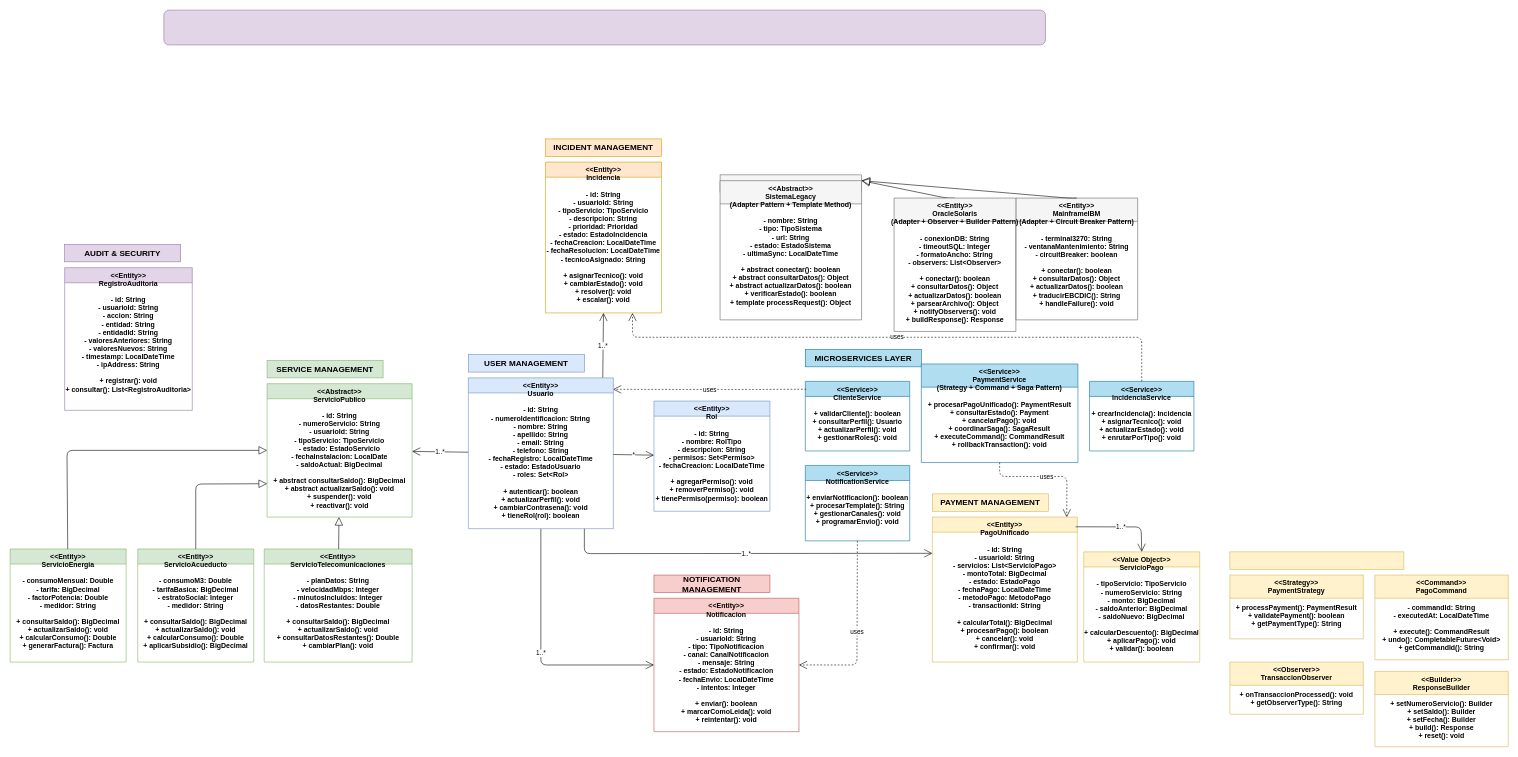
Image size: 1518x757. Some labels were removed from this diagram. The shapes that lost their labels are listed below. From the top down, each one's centre as x and y in pixels, then its label:
At point 604,27: "DIAGRAMA DE CLASES GENERAL - SERVICIUDAD CONECTADA".
At point 1316,560: "DESIGN PATTERNS IMPLEMENTATION".
